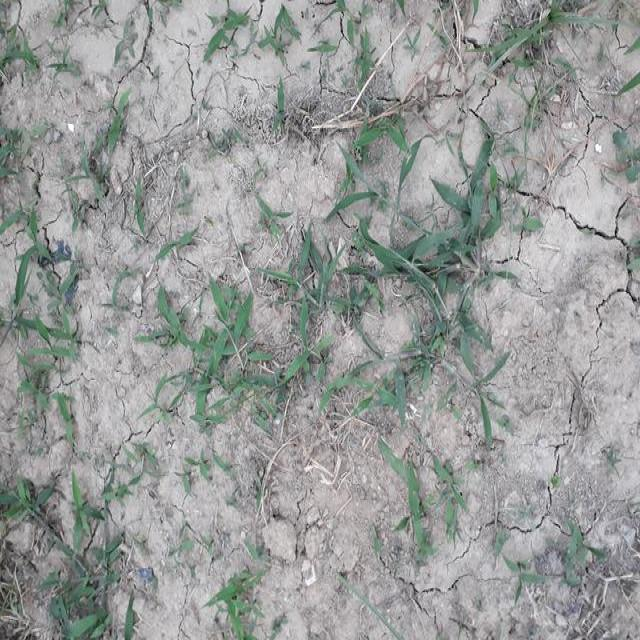weed: (12, 203, 72, 421), (154, 295, 262, 403), (353, 238, 493, 304), (381, 442, 429, 561), (280, 274, 325, 388)
